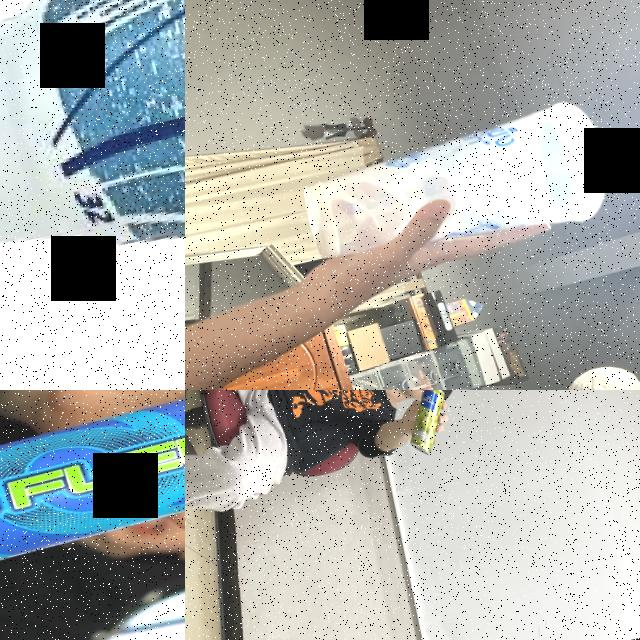can: (0, 390, 185, 598), (396, 390, 457, 459)
cup: (0, 0, 185, 337), (292, 94, 618, 280)
